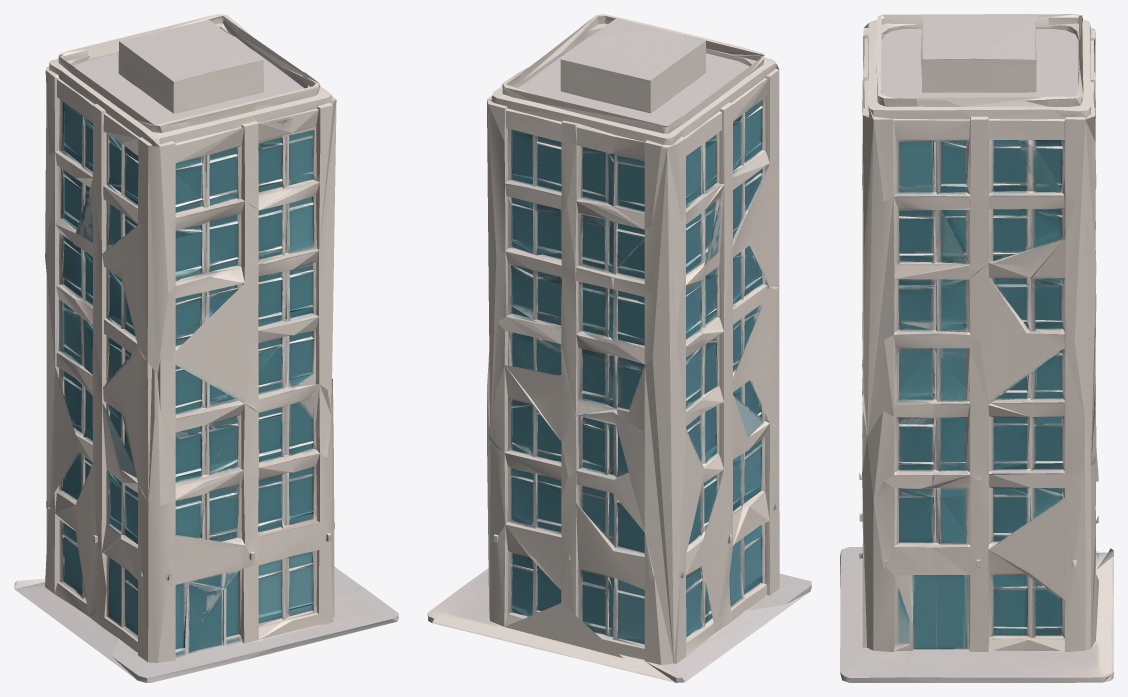
File: building-modern.glb
3 views of the same model, side by side, from view 1: azimuth 30°, elevation 25°; view 2: azimuth 150°, elevation 25°; view 3: azimuth 270°, elevation 25° (orthographic). The views are drawn at different scales.
Size of the model in its own units: 0.9281 by 1.9 by 0.8226.
1 material, 1 textured.
